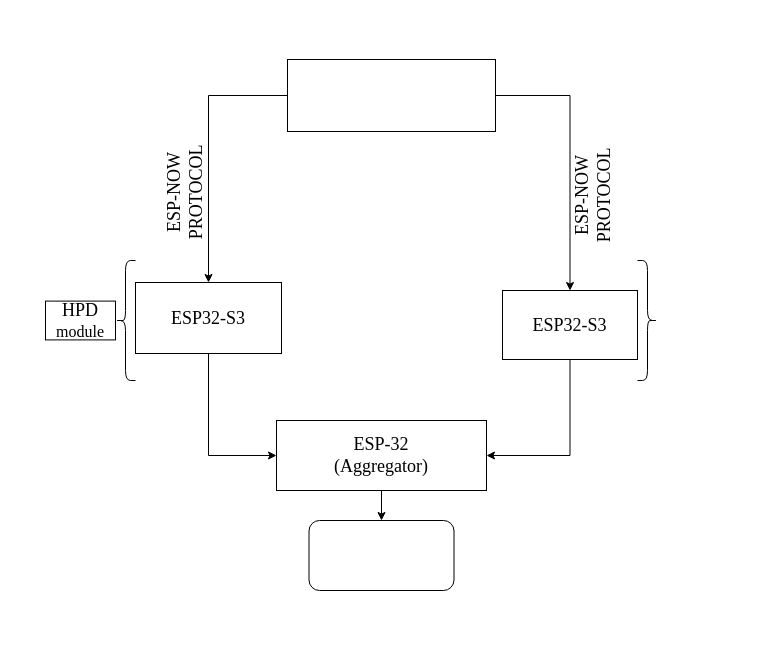
Image size: 783x650. Some labels were removed from this diagram. The box of each missing label's shape, as (x1, y1, x2, y2) in pixels:
Display (Human Presence Detected or Not): (308, 520, 454, 590)
ESP-32 CAM (Image Capture and Tiling): (286, 58, 496, 132)
